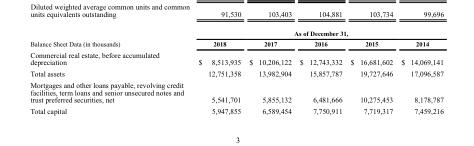table: (29, 29, 442, 114)
table column: (29, 29, 190, 114), (190, 29, 244, 114), (244, 29, 295, 114), (345, 29, 396, 114), (295, 29, 345, 114), (396, 29, 442, 114)
table column header: (29, 29, 442, 48)
table row: (29, 78, 442, 104), (29, 48, 442, 67), (29, 67, 442, 78), (29, 38, 442, 48), (29, 104, 442, 114), (29, 29, 442, 38)
table spanning cell: (29, 29, 190, 48), (190, 29, 442, 38)
